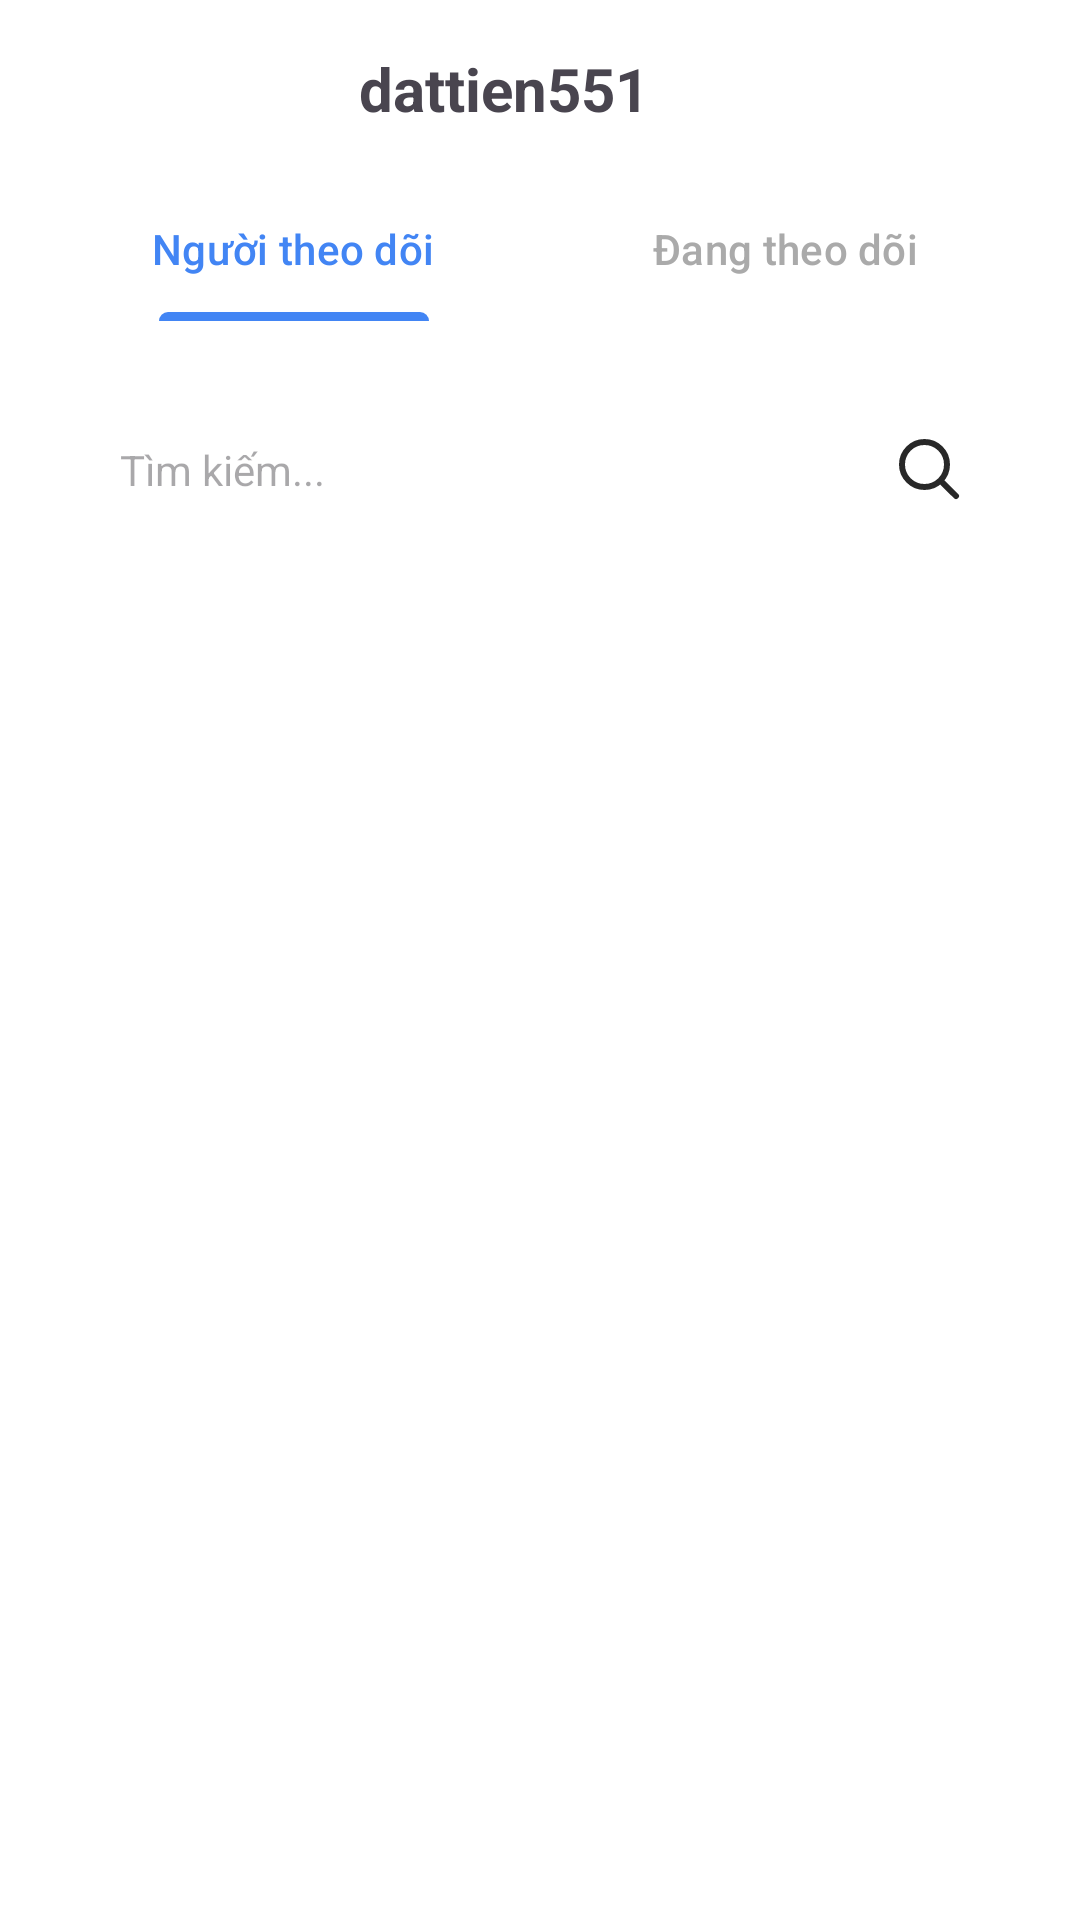

Screen size 1080×1920. Icon name, then its box in pixels as box(x1, y1, x2, y2):
search: box(899, 439, 959, 499)
